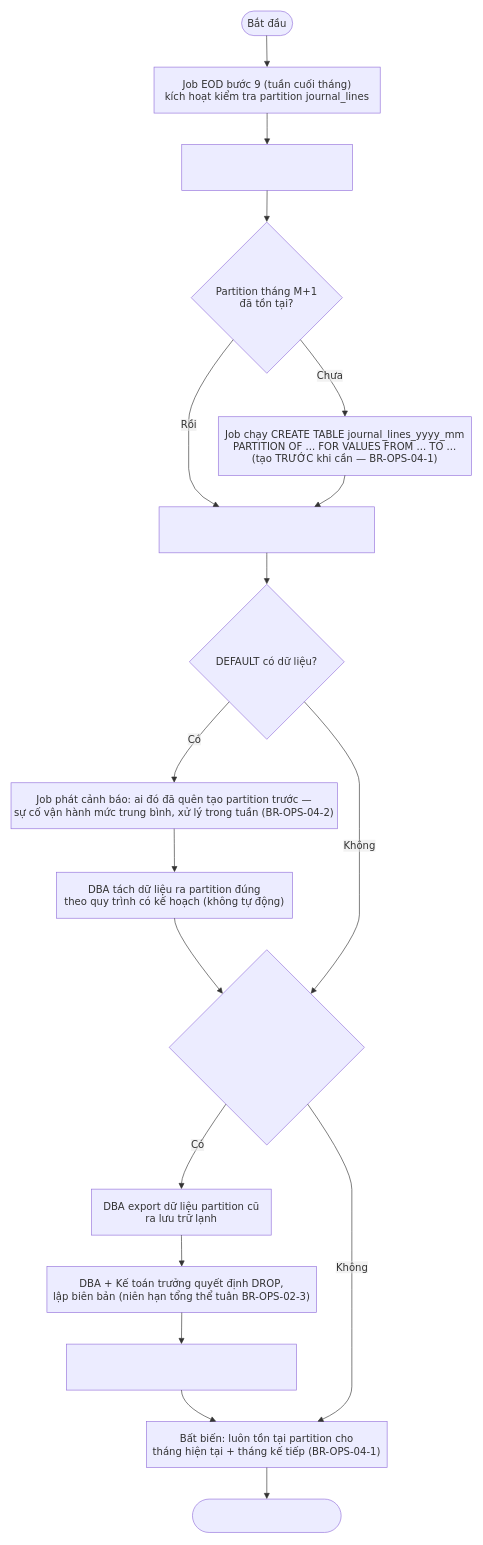
The diagram is 483 pixels wide and 1545 high, and some of its shapes have lost their labels. Each missing label, with the centre of its shape:
Có partition tháng đã quá niên hạn lưu trực tuyến?: pixel 266 1047
DBA chạy DROP partition — lưu trữ tức thì thay cho DELETE hàng triệu dòng: pixel 181 1366
Job kiểm partition DEFAULT (chỉ là lưới an toàn) có dòng nào không: pixel 266 529
Job kiểm partition tháng M+1 đã tồn tại chưa: pixel 266 167
Kết thúc — partition sẵn sàng cho tháng kế tiếp: pixel 266 1515
